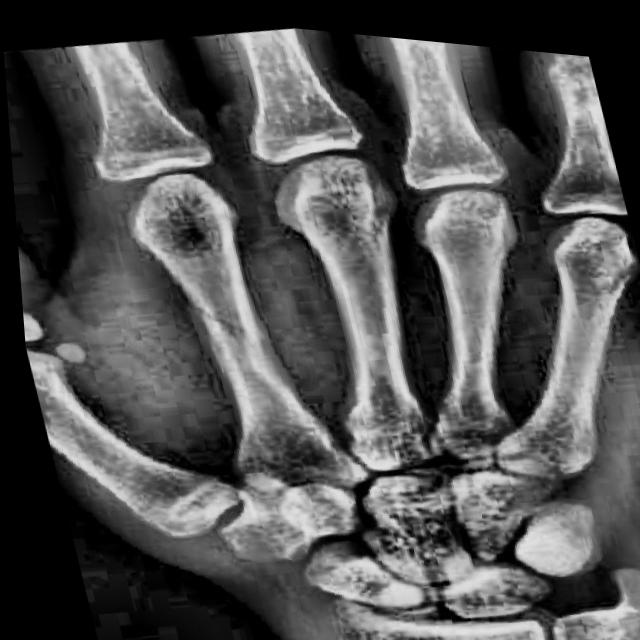fracture: (183, 287, 272, 357)
